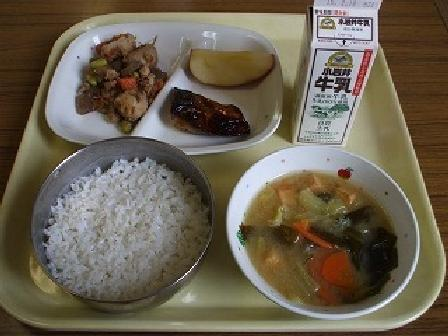Apple: (176, 34, 281, 95)
Fish: (162, 87, 257, 145)
Milk: (290, 0, 388, 153)
Rice: (34, 146, 208, 304)
Soups: (231, 160, 407, 314)
cooked food meat with vegetables: (77, 39, 179, 121)
